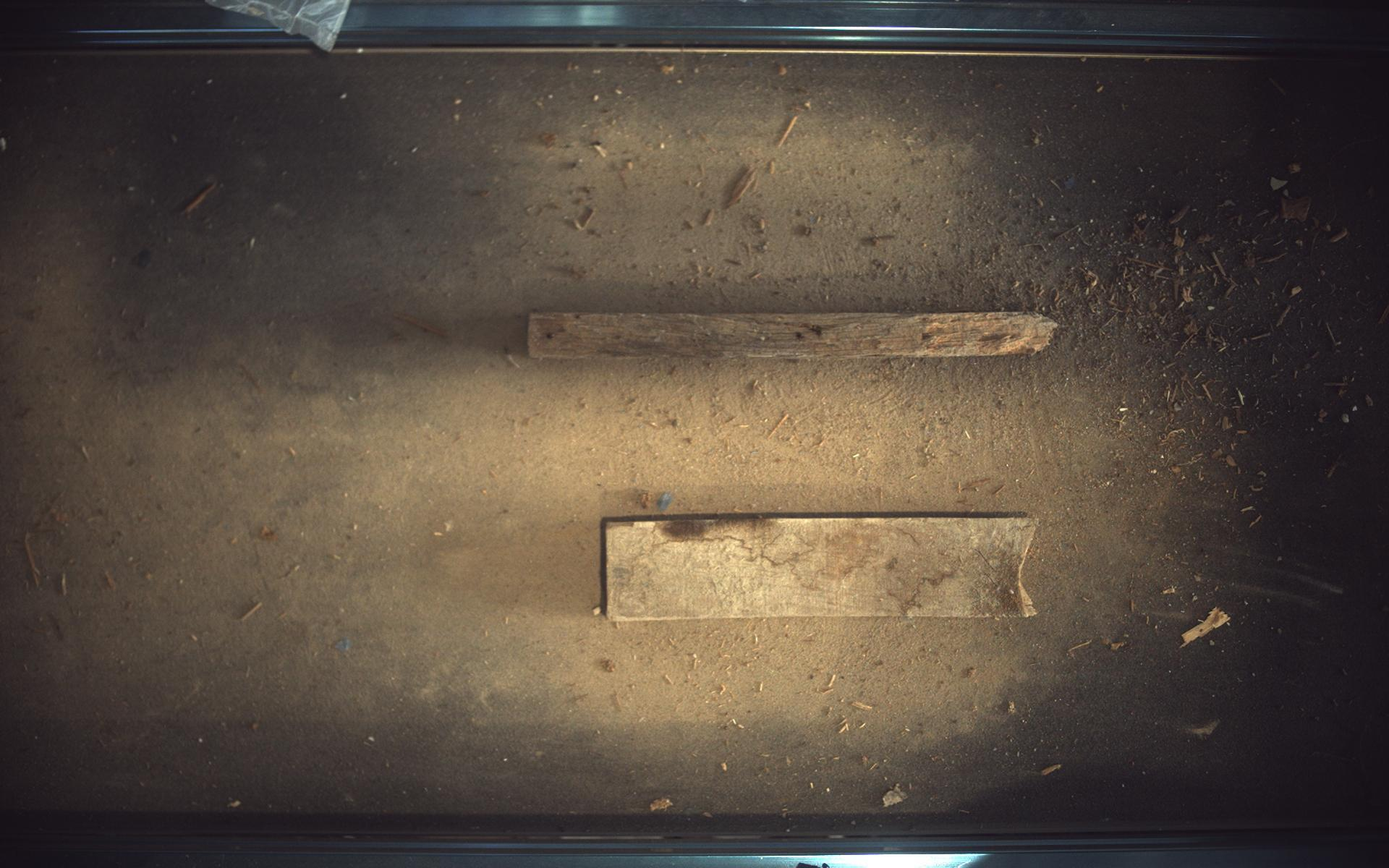wood: (603, 514, 1038, 622), (528, 312, 1058, 359)
